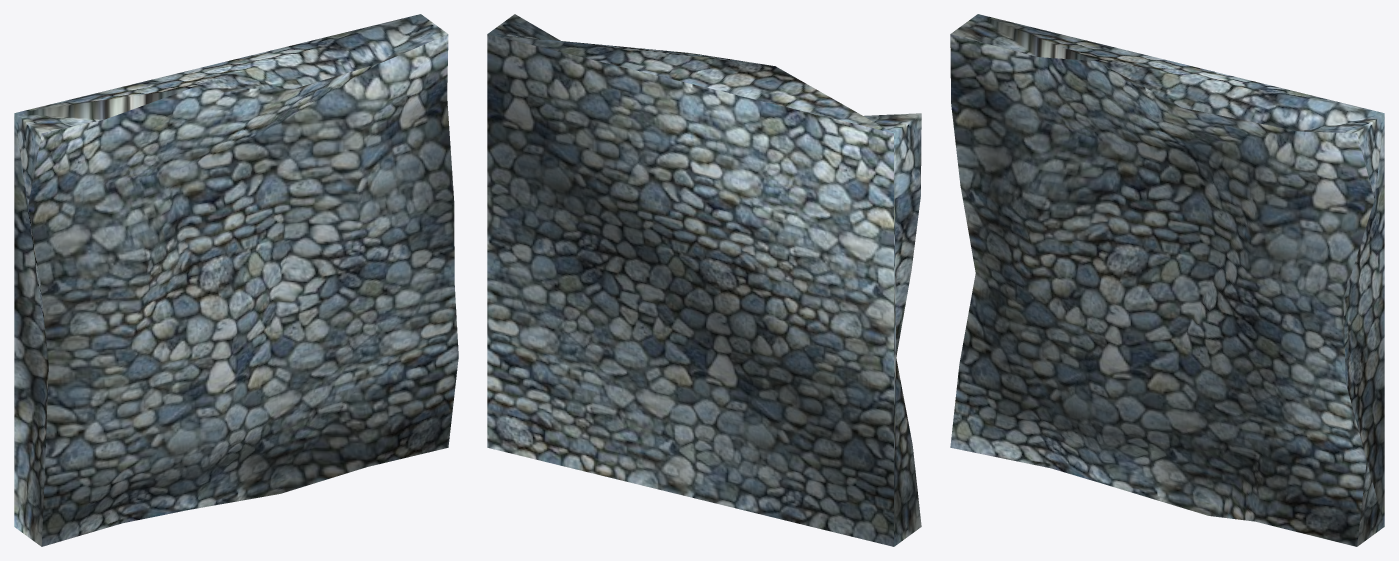
File: wall_cave.obj
The picture shows the model from 3 angles, left to right: view 1: azimuth 30°, elevation 25°; view 2: azimuth 150°, elevation 25°; view 3: azimuth 330°, elevation 25°; orthographic projection.
Parts seen in each view (by area): view 1: Cube; view 2: Cube; view 3: Cube.
Part boxes in pixels (bbox=[...]): Cube: bbox=[14, 14, 458, 546]; Cube: bbox=[487, 14, 921, 546]; Cube: bbox=[950, 14, 1384, 546].
Bounding box in the file's own units: 2.22 × 2.19 × 0.3462.
